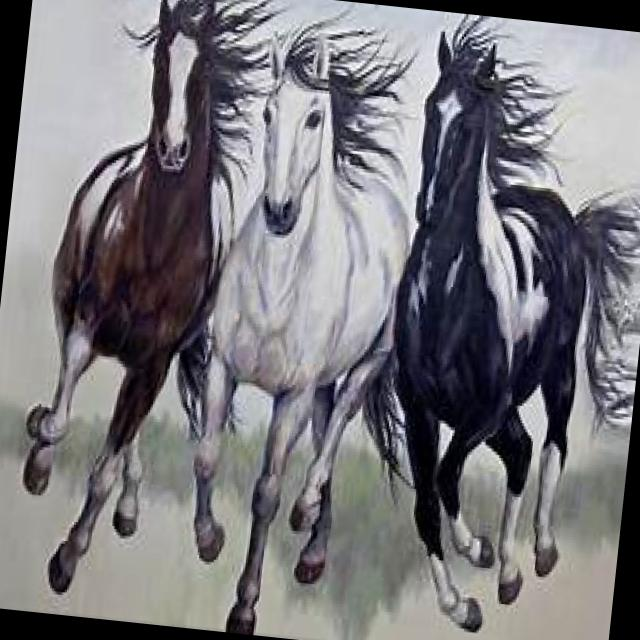animal: (172, 0, 458, 640), (361, 9, 640, 640), (6, 0, 285, 608)
